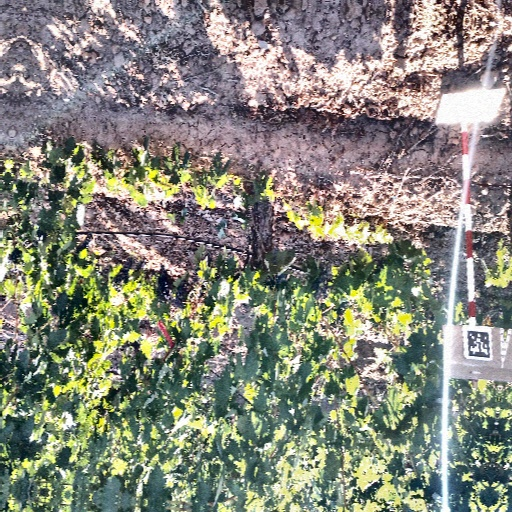QR: (464, 326, 493, 357)
